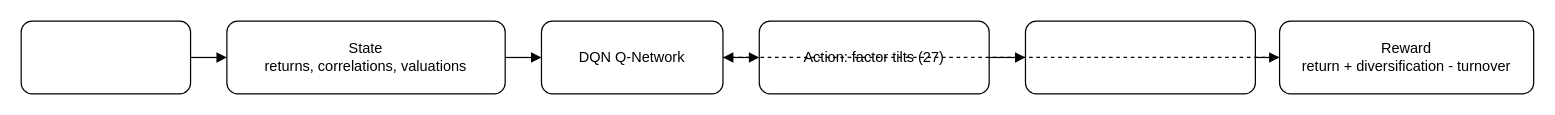
The diagram is 1555 pixels wide and 115 high, and some of its shapes have lost their labels. The shapes that lost their labels are listed below. From the top down, each one's centre as x and y in pixels, then its label:
point 105,57: Factor Data
point 1139,57: Factor Tracking Env rebalancing, costs
